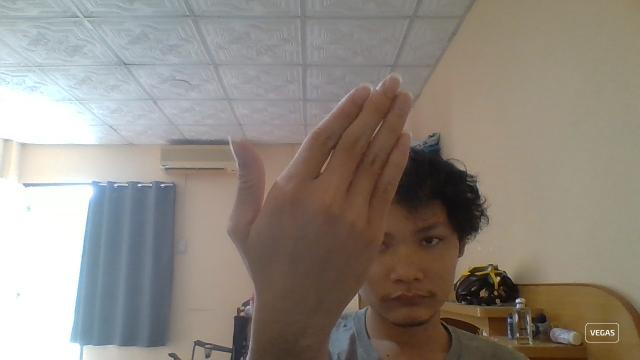backword: (226, 71, 414, 357)
